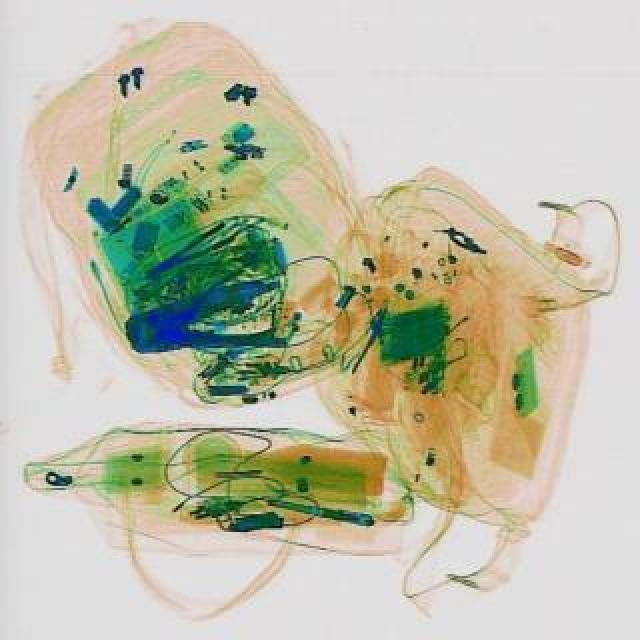wrench: (120, 274, 288, 368), (140, 262, 278, 366), (140, 218, 234, 282)
